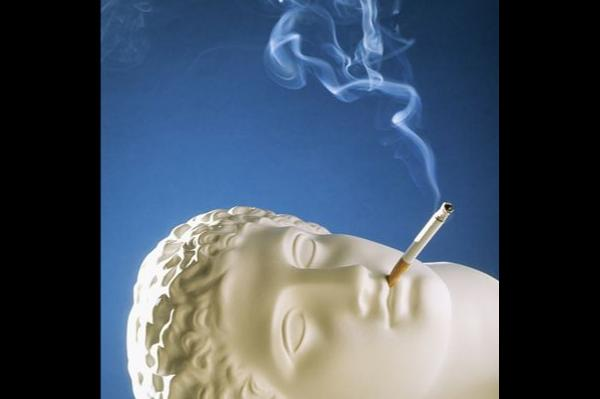Cigarette: (384, 199, 452, 283)
Smoke: (112, 0, 441, 172)
